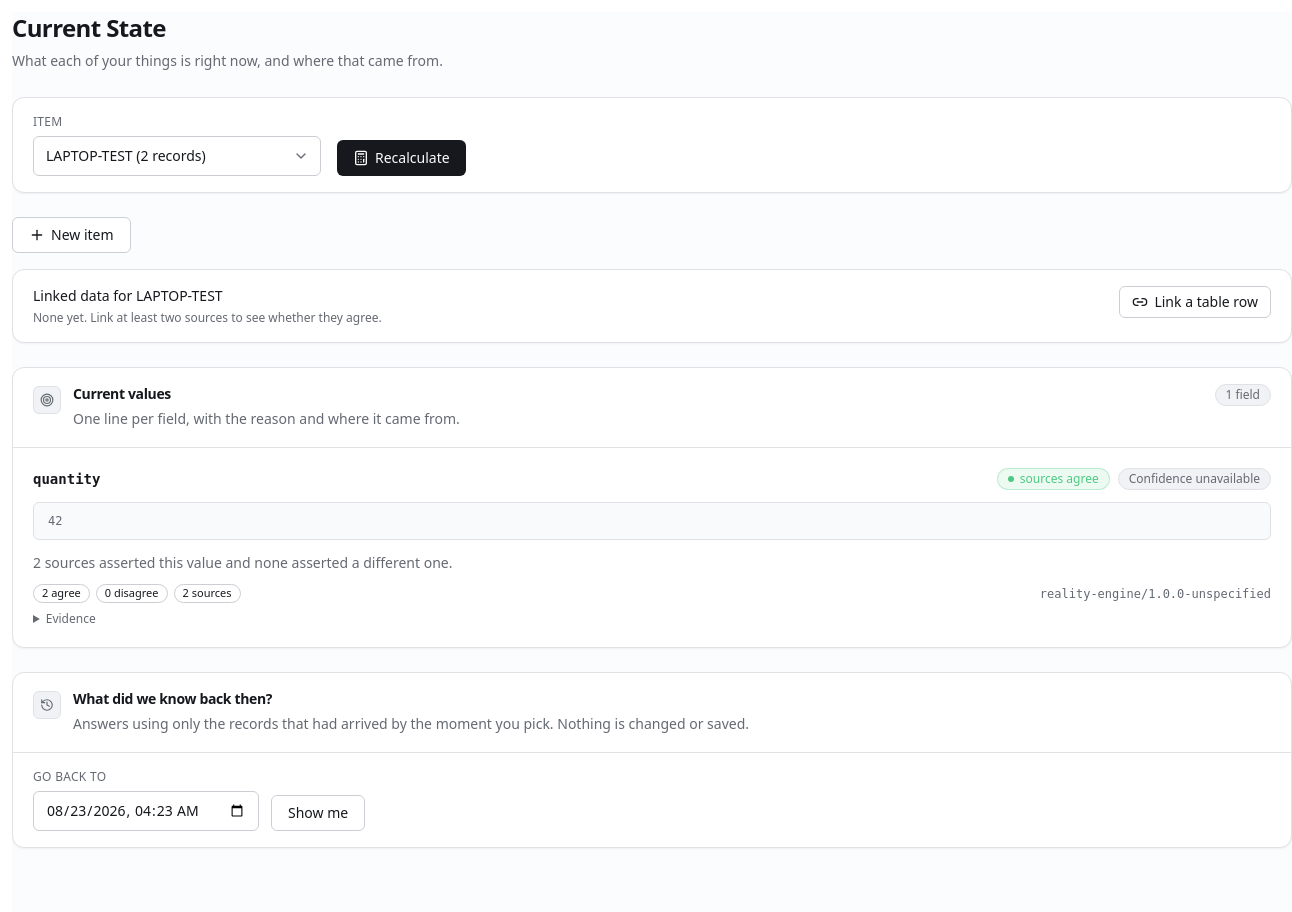
Reality page › reports what a recalculation could not score
expect the dropdown labelled "Item" is shown: met, box [33,136,321,176]
Step 1. Click the button "Recalculate" → coordinates (401, 158), box [337,140,466,176]
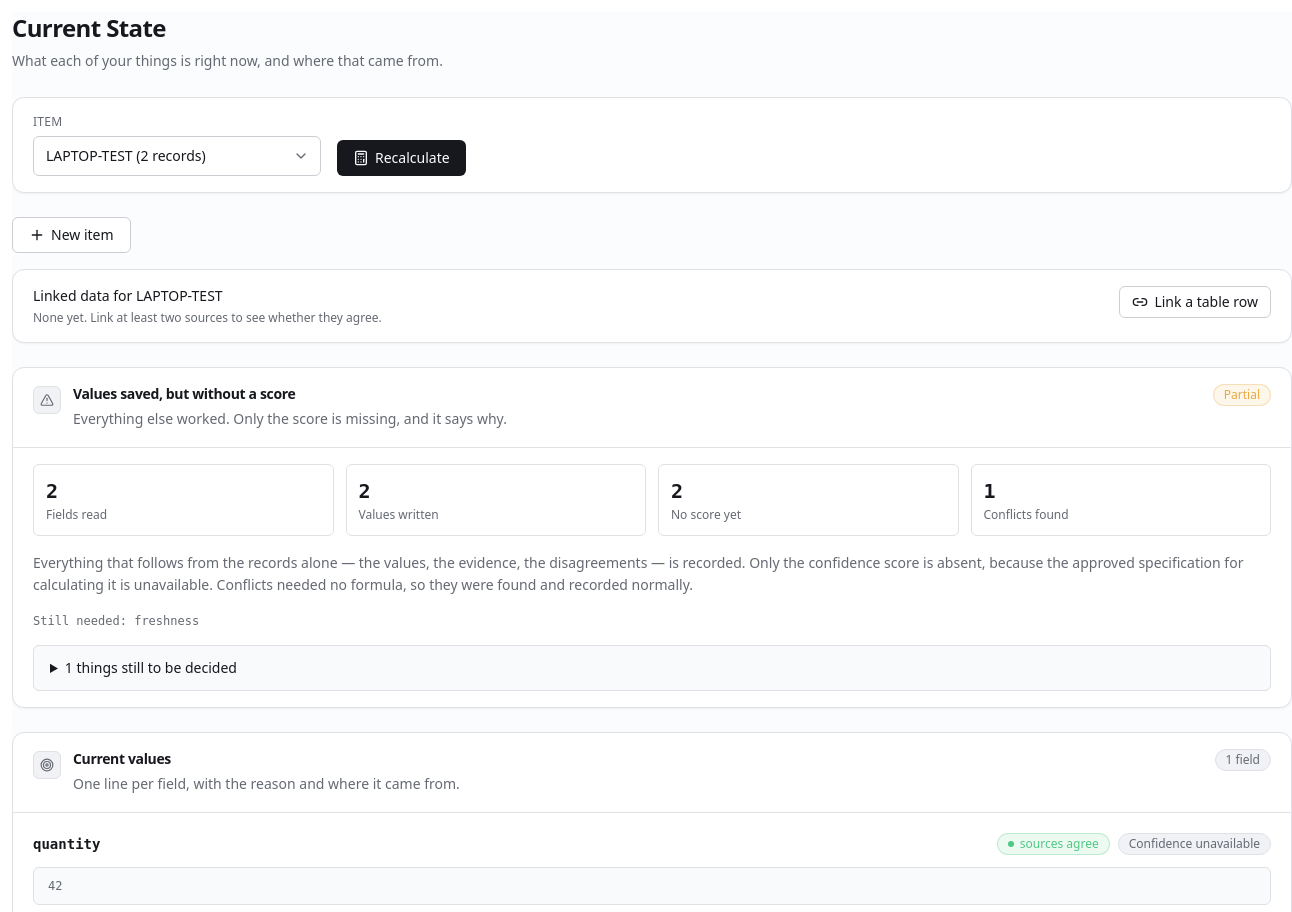
expect the heading "Values saved, but without a score" is shown: met, box [73,384,295,403]
expect the text "Still needed: freshness" is shown: met, box [33,614,199,628]
